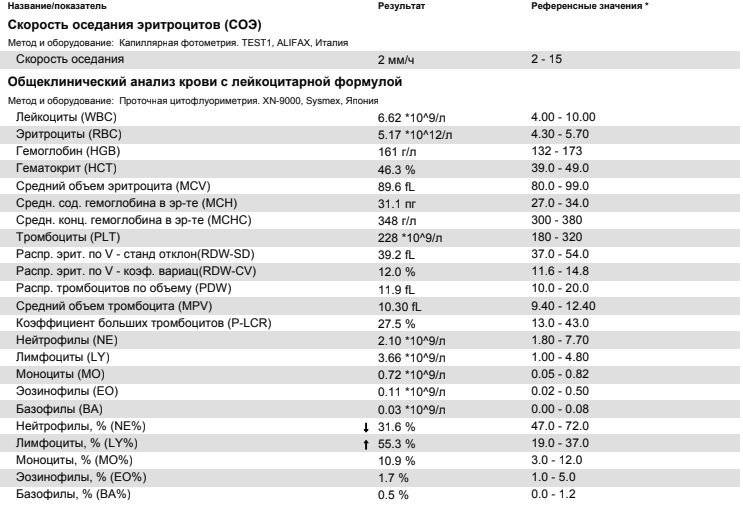column: (15, 110, 271, 500), (377, 110, 453, 500), (529, 110, 596, 500), (15, 52, 125, 65), (531, 1, 642, 11), (7, 1, 107, 11), (377, 52, 414, 65), (378, 1, 425, 11), (531, 52, 562, 65)
